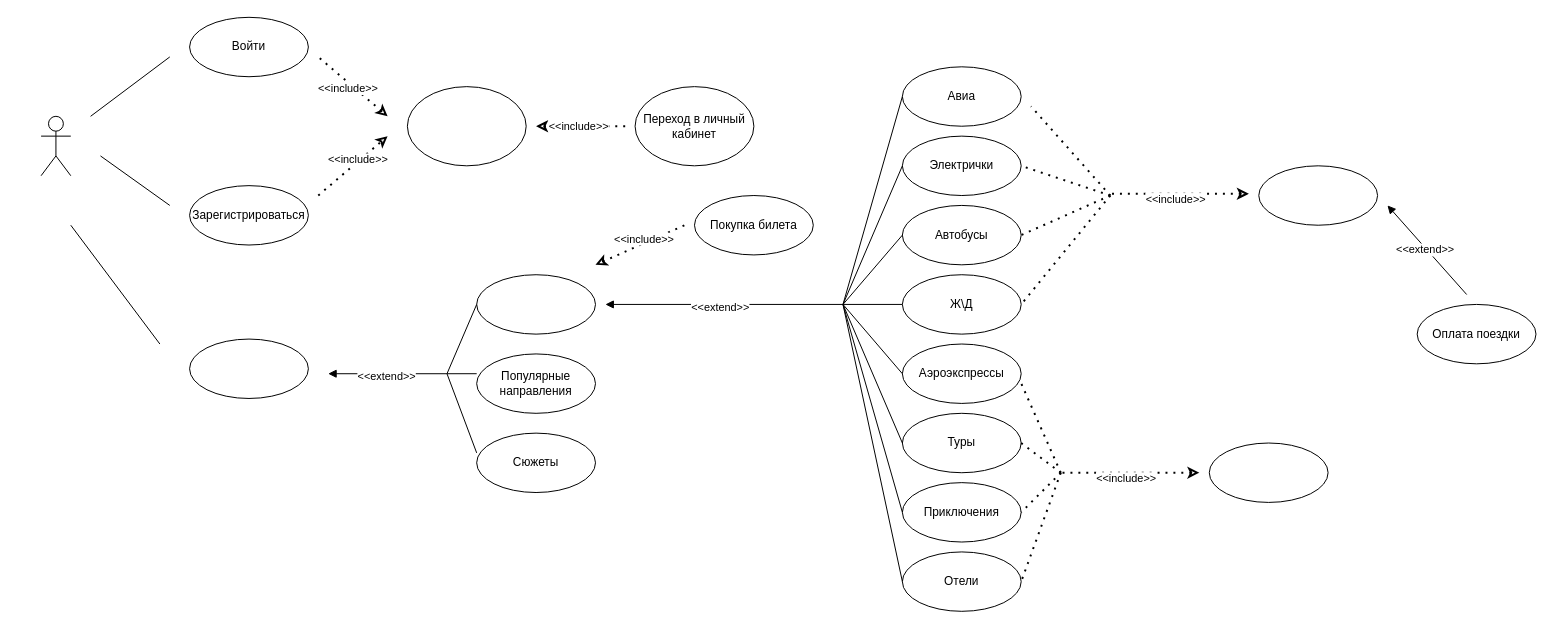
The diagram is 1553 pixels wide and 629 high, and some of its shapes have lost their labels. Each missing label, with the centre of its shape:
"Авторизоваться" goes at point (466, 126).
"Выбор города, даты, количества людей" goes at point (1318, 195).
"Отдельный дочерний сервис" goes at point (1268, 472).
"Поиск билета" goes at point (535, 304).
"Пользователь" goes at point (55, 145).
"Посмотреть возможности" goes at point (248, 368).
